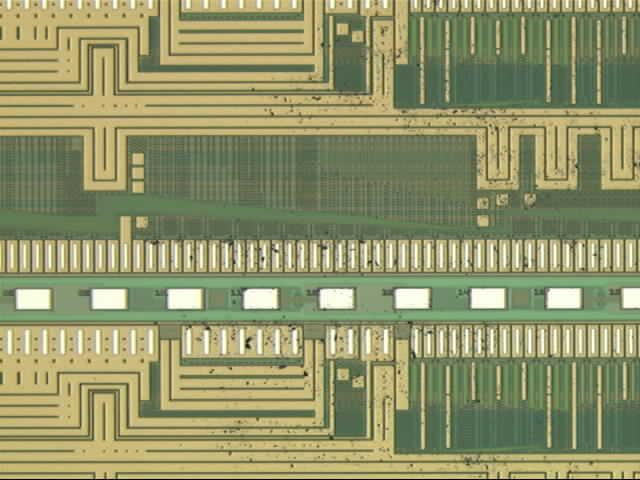PO CONTAMINATION: (138, 1, 640, 480)
